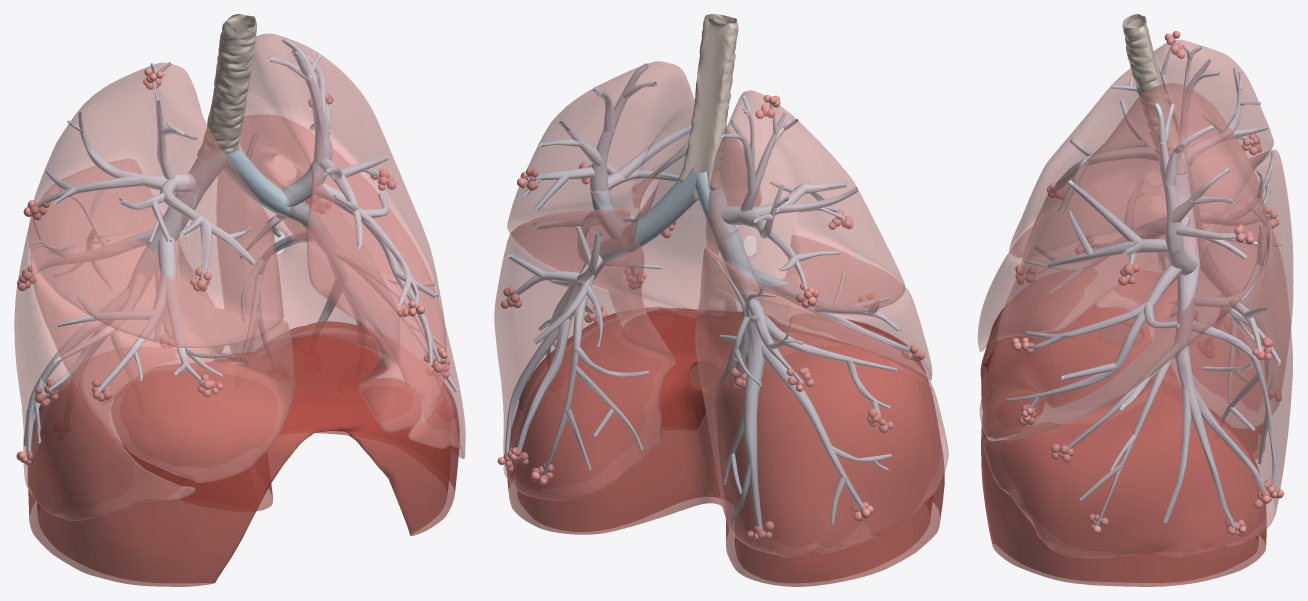
File: lungs.glb
3 renders of one model, left to right at view 1: azimuth 30°, elevation 25°; view 2: azimuth 150°, elevation 25°; view 3: azimuth 270°, elevation 25°, orthographic. The views are drawn at different scales.
Visible parts, largest first — view 1: diaphragm.001, superior_lobe_of_right_lung, superior_lobe_of_left_lung, middle_lobe_of_right_lung, inferior_lobe_of_right_lung, inferior_lobe_of_left_lung, trachea.001, anterior_segmental_bronchus_of_right_lung_biii, apicoposterior_segmental_bronchus_of_left_lung_bi_bii, superior_segmental_bronchus_of_right_lung_bvi, posterior_segmental_bronchus_of_right_lung_bii, lateral_segmental_bronchus_of_right_lung_biv (+19 smaller); view 2: diaphragm.001, inferior_lobe_of_right_lung, inferior_lobe_of_left_lung, superior_lobe_of_left_lung, superior_lobe_of_right_lung, middle_lobe_of_right_lung, trachea.001, apicoposterior_segmental_bronchus_of_left_lung_bi_bii, medial_basal_segmental_bronchus_of_left_lung_bvii, superior_segmental_bronchus_of_left_lung_bvi, superior_segmental_bronchus_of_right_lung_bvi, left_main_bronchus (+15 smaller); view 3: superior_lobe_of_left_lung, diaphragm.001, inferior_lobe_of_left_lung, superior_lobe_of_right_lung, inferior_lobe_of_right_lung, middle_lobe_of_right_lung, apicoposterior_segmental_bronchus_of_left_lung_bi_bii, trachea.001, lateral_basal_segmental_bronchus_of_left_lung_bix, medial_basal_segmental_bronchus_of_left_lung_bvii, anterior_segmental_bronchus_of_left_lung_biii, anterior_segmental_bronchus_of_right_lung_biii (+15 smaller).
Part boxes in pixels (x1,y1,x2,y2): diaphragm.001: (27,321,459,586); superior_lobe_of_right_lung: (28,62,283,347); superior_lobe_of_left_lung: (238,33,446,432); middle_lobe_of_right_lung: (30,233,295,482); inferior_lobe_of_right_lung: (14,159,223,521); inferior_lobe_of_left_lung: (216,114,465,459); trachea.001: (197,14,256,168); anterior_segmental_bronchus_of_right_lung_biii: (118,179,255,282); apicoposterior_segmental_bronchus_of_left_lung_bi_bii: (268,38,332,163); superior_segmental_bronchus_of_right_lung_bvi: (25,177,152,288); posterior_segmental_bronchus_of_right_lung_bii: (37,112,175,207); lateral_segmental_bronchus_of_right_lung_biv: (56,274,166,392); diaphragm.001: (507,307,944,586); inferior_lobe_of_right_lung: (695,248,948,557); inferior_lobe_of_left_lung: (494,207,678,500); superior_lobe_of_left_lung: (507,61,761,312); superior_lobe_of_right_lung: (705,90,905,313); middle_lobe_of_right_lung: (713,235,932,380); trachea.001: (678,14,738,200); apicoposterior_segmental_bronchus_of_left_lung_bi_bii: (523,63,656,210); medial_basal_segmental_bronchus_of_left_lung_bvii: (542,275,648,474); superior_segmental_bronchus_of_left_lung_bvi: (507,225,602,346); superior_segmental_bronchus_of_right_lung_bvi: (716,260,803,386); left_main_bronchus: (620,167,696,251); superior_lobe_of_left_lung: (979,83,1270,441); diaphragm.001: (980,268,1266,586); inferior_lobe_of_left_lung: (983,195,1292,557); superior_lobe_of_right_lung: (1009,39,1273,257); inferior_lobe_of_right_lung: (1096,149,1293,428); middle_lobe_of_right_lung: (977,226,1209,351); apicoposterior_segmental_bronchus_of_left_lung_bi_bii: (1154,103,1257,259); trachea.001: (1122,14,1185,174); lateral_basal_segmental_bronchus_of_left_lung_bix: (1163,344,1238,533); medial_basal_segmental_bronchus_of_left_lung_bvii: (1192,321,1276,487); anterior_segmental_bronchus_of_left_lung_biii: (1047,180,1173,278); anterior_segmental_bronchus_of_right_lung_biii: (1051,99,1158,213).
Bounding box in the file's own units: 4.08 × 4.85 × 2.9.
